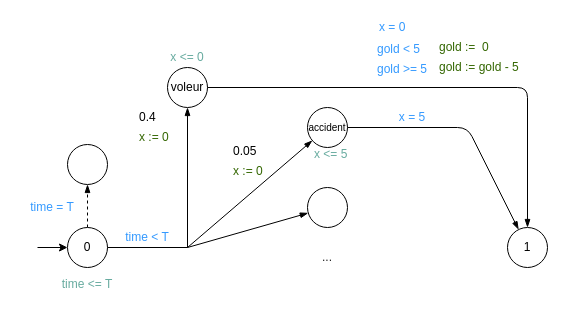
The diagram is 565 pixels wide and 311 high, and some of its shapes have lost their labels. The shapes that lost their labels are listed below. From the top down, each one's box as (x1, y1, x2, y2) in pixels, then its label:
(66, 144, 108, 184): end
(306, 186, 348, 228): artefact
